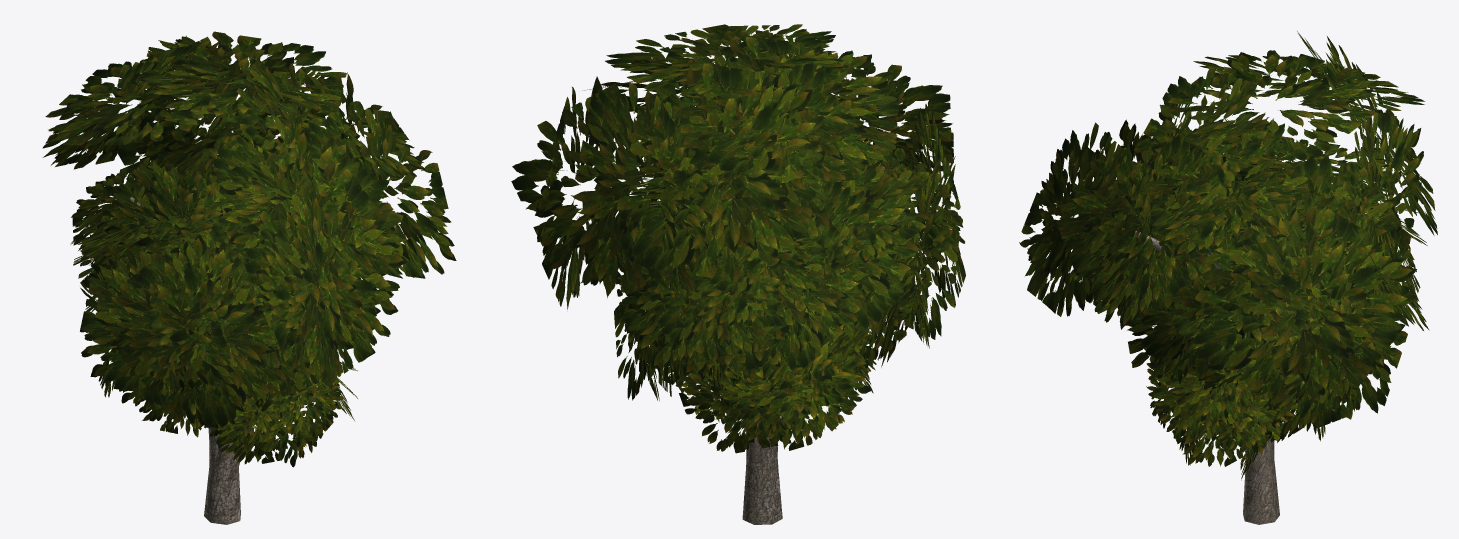
File: trees.glb
3 renders of one model, left to right at view 1: azimuth 30°, elevation 25°; view 2: azimuth 150°, elevation 25°; view 3: azimuth 270°, elevation 25°, orthographic. The views are drawn at different scales.
Visible parts, largest first — view 1: tree_tropical_2, tree_tropical_4, tree_street_8, tree_tropical_1, tree_street_9, tree_tropical_3; view 2: tree_tropical_2, tree_tropical_1, tree_tropical_4, tree_tropical_3, tree_street_10, tree_street_9, tree_street_8; view 3: tree_tropical_2, tree_tropical_3, tree_street_8, tree_tropical_4, tree_tropical_1, tree_street_9.
Part boxes in pixels (<box>): tree_tropical_2: <box>42,31,456,524</box>; tree_tropical_4: <box>73,144,337,474</box>; tree_street_8: <box>162,362,357,467</box>; tree_tropical_1: <box>70,157,306,409</box>; tree_street_9: <box>139,354,321,460</box>; tree_tropical_3: <box>89,166,357,411</box>; tree_tropical_2: <box>511,24,965,524</box>; tree_tropical_1: <box>649,173,931,463</box>; tree_tropical_4: <box>631,126,964,472</box>; tree_tropical_3: <box>614,178,827,401</box>; tree_street_10: <box>712,315,873,439</box>; tree_street_9: <box>679,325,884,453</box>; tree_street_8: <box>655,344,876,437</box>; tree_tropical_2: <box>1019,31,1437,524</box>; tree_tropical_3: <box>1140,191,1429,437</box>; tree_street_8: <box>1146,361,1314,480</box>; tree_tropical_4: <box>1104,139,1412,360</box>; tree_tropical_1: <box>1117,173,1427,466</box>; tree_street_9: <box>1146,318,1332,442</box>.
Size of the model in its own units: 11.26 by 13.8 by 11.96.
3 materials, 3 textured.
